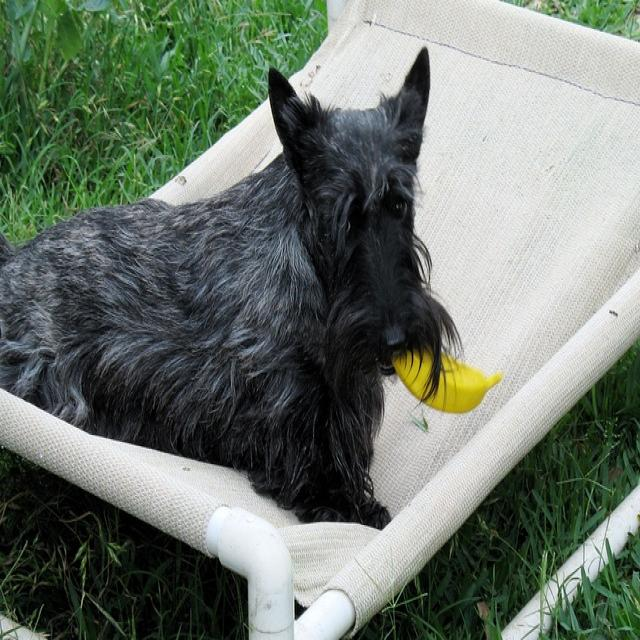dog: (0, 44, 458, 530)
